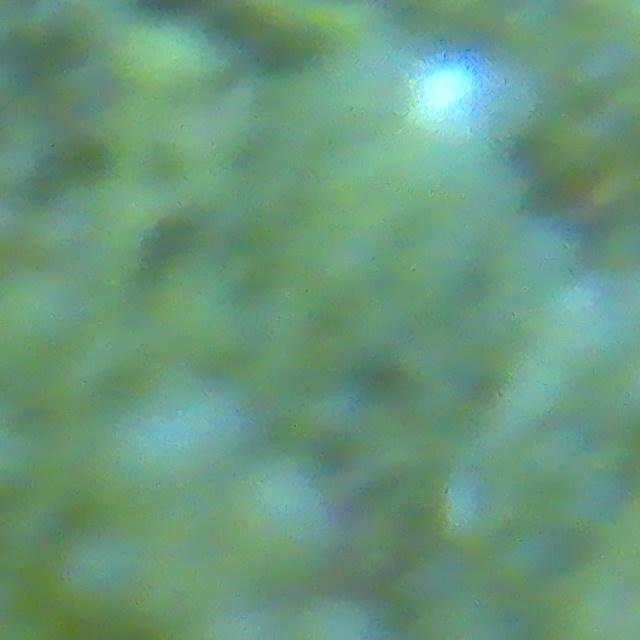SeaGrape: (221, 452, 344, 600), (116, 379, 247, 500), (117, 14, 216, 101), (426, 464, 515, 555)
